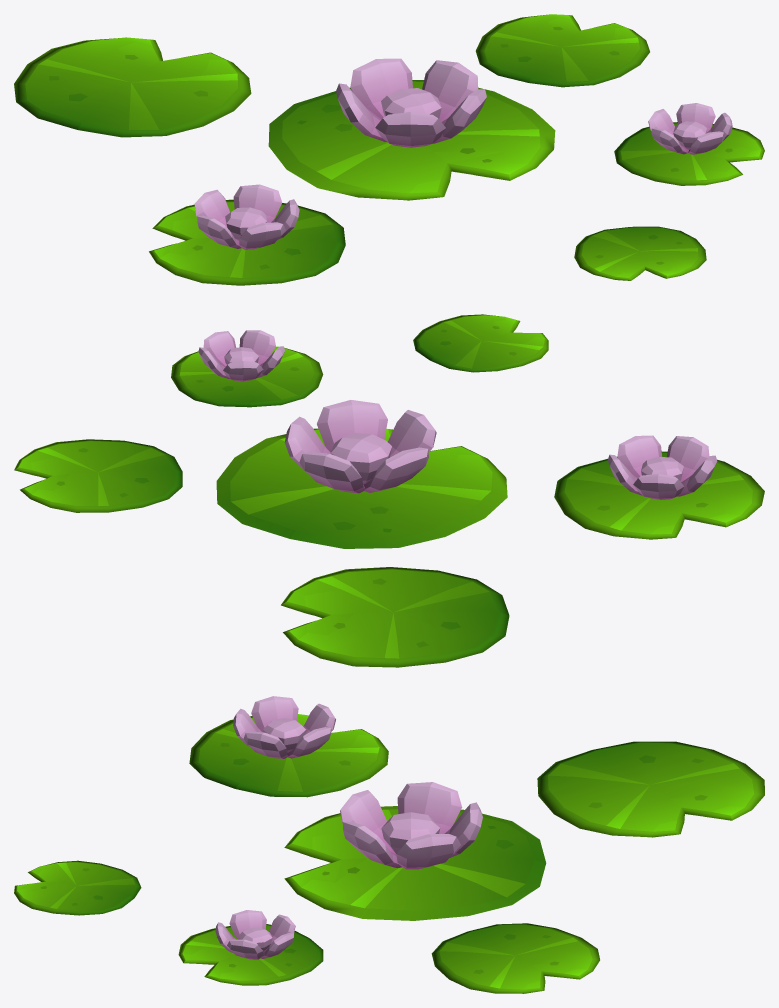
File: waterlily_pink_group.glb
3 views of the same model, one above another, from view 1: azimuth 30°, elevation 25°; view 2: azimuth 150°, elevation 25°; view 3: azimuth 270°, elevation 25° (orthographic). The views are drawn at different scales.
Visible parts, largest first — view 1: waterlily_pink_group; view 2: waterlily_pink_group; view 3: waterlily_pink_group.
Boxes of the visible parts, bbox=[...] form: waterlily_pink_group: bbox=[14, 14, 764, 285]; waterlily_pink_group: bbox=[14, 314, 764, 667]; waterlily_pink_group: bbox=[14, 696, 764, 993].
Size of the model in its own units: 2.37 by 0.2342 by 2.68.
Materials: 1 (1 with a texture image).
